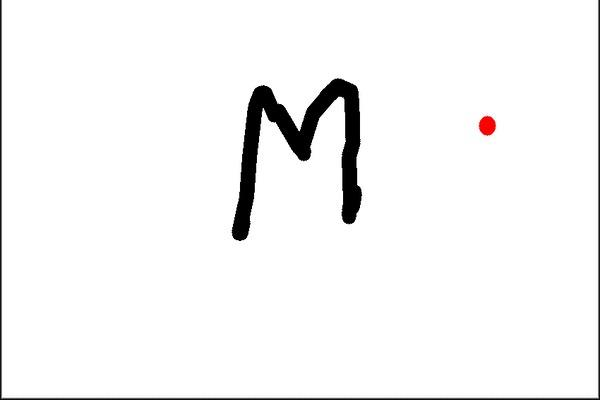M: (229, 76, 366, 245)
